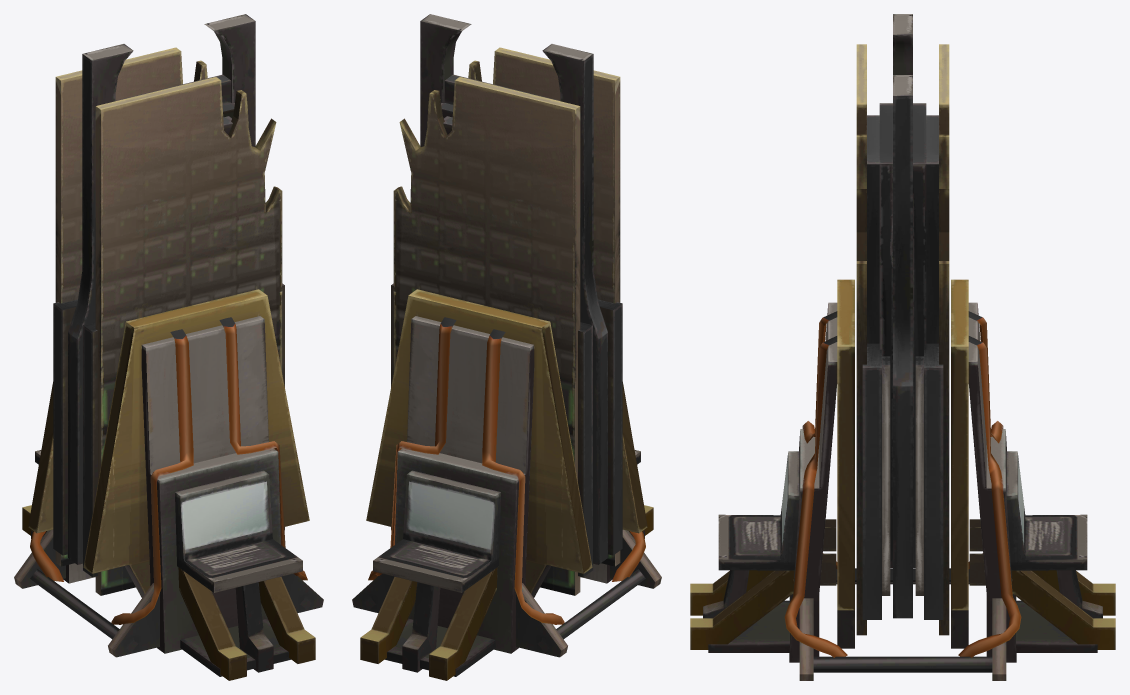
File: S_survive_building.fbx
3 views of the same model, side by side, from view 1: azimuth 30°, elevation 25°; view 2: azimuth 150°, elevation 25°; view 3: azimuth 270°, elevation 25° (orthographic). The views are drawn at different scales.
Parts seen in each view (by area): view 1: S_survive_building; view 2: S_survive_building; view 3: S_survive_building.
Boxes of the visible parts, box(x1,y1,x2,y2) form: S_survive_building: box(14, 14, 323, 680); S_survive_building: box(352, 14, 661, 680); S_survive_building: box(690, 14, 1115, 680).
Bounding box in the file's own units: 0.6416 × 1.57 × 1.04.
1 material, 1 textured.
